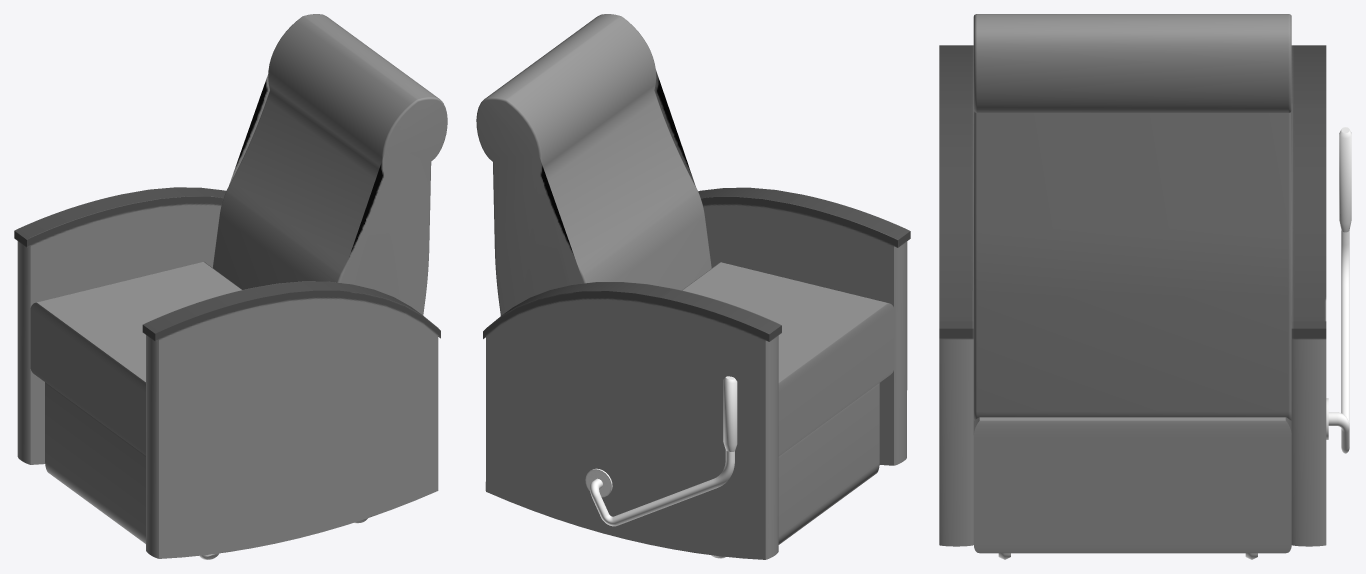
File: Healthcare Recliner.fbx
3 views of the same model, side by side, from view 1: azimuth 30°, elevation 25°; view 2: azimuth 150°, elevation 25°; view 3: azimuth 270°, elevation 25° (orthographic). The views are drawn at different scales.
Visible parts, largest first — view 1: Recliner; view 2: Recliner; view 3: Recliner.
Boxes of the visible parts, <box> form: Recliner: <box>14,14,447,559</box>; Recliner: <box>476,14,910,559</box>; Recliner: <box>939,14,1351,559</box>.
Bounding box in the file's own units: 89.07 × 117 × 75.79.
